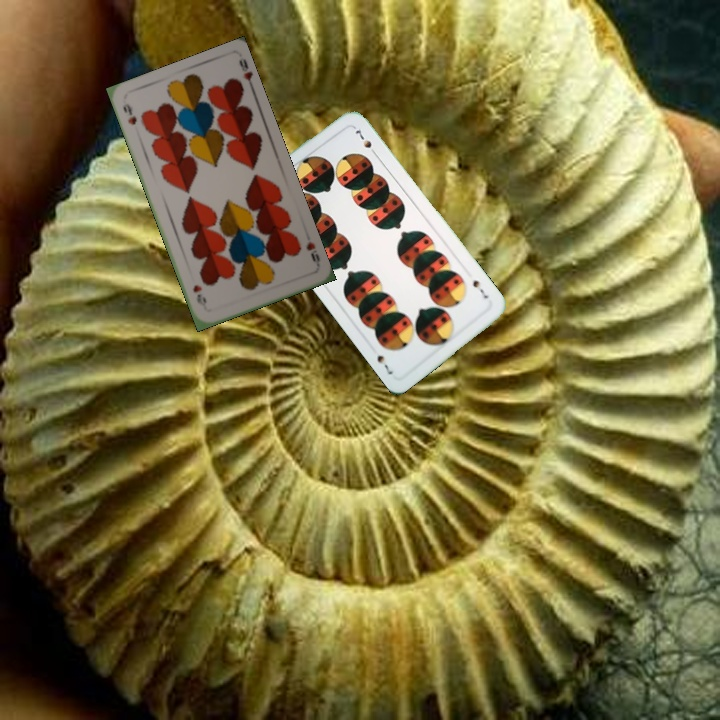H9: (302, 237, 323, 269), (119, 99, 139, 128)
S7: (469, 275, 491, 301)
